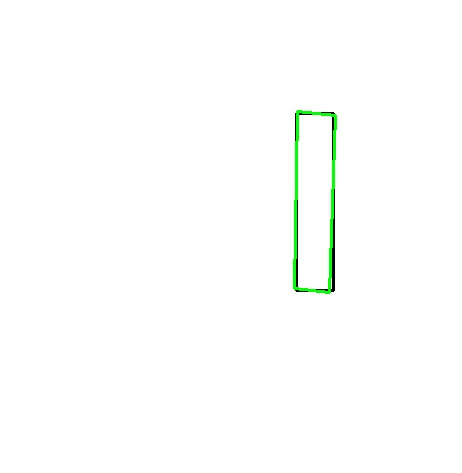line_segment: (294, 111, 336, 293)
